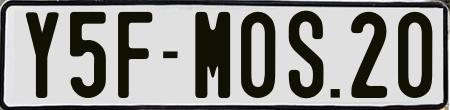0: (240, 10, 280, 99), (396, 12, 431, 102)
2: (351, 11, 391, 100)
5: (68, 9, 107, 95)
F: (116, 9, 152, 95)
M: (194, 12, 231, 100)
S: (287, 8, 322, 95)
Y: (24, 9, 63, 101)
